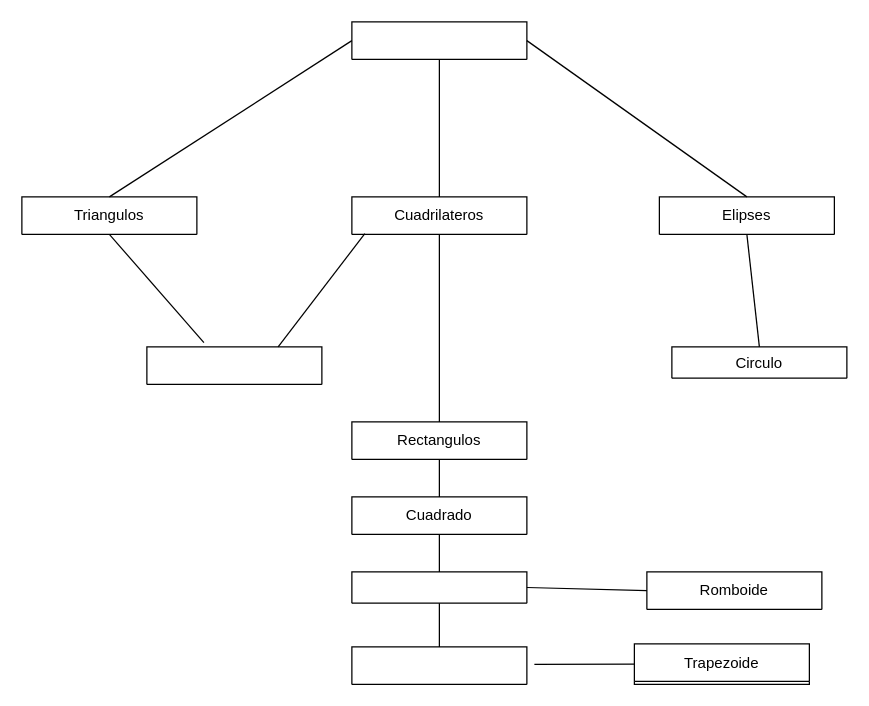
Some shapes in this 869 by 706 pixel diagram are drawn without their labels. Here are the shapes that lost their labels. From the top down, the centre of each, then its label:
At (x=439, y=40): "Figuras".
At (x=234, y=365): "Tipos Poligonos".
At (x=439, y=587): "Rombo".
At (x=439, y=665): "Trapezio".
